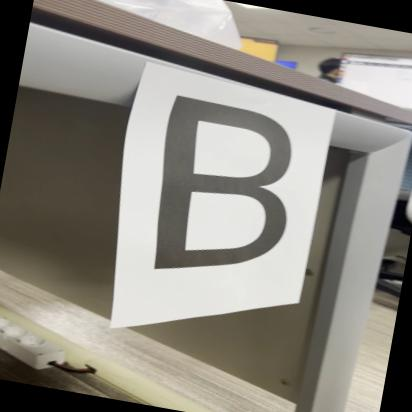seat: (95, 54, 381, 318)
